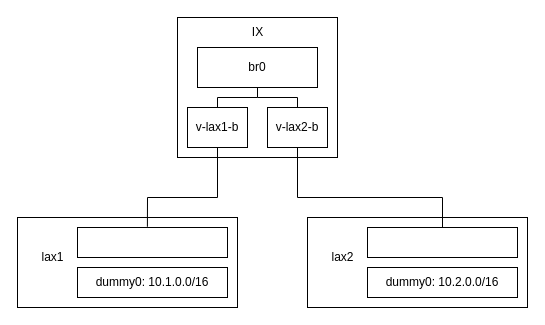
Image size: 545x325. Some labels were removed from this diagram. The centre of each missing label's shape, as x and y in pixels:
"v-lax1-a:192.168.31.1/30" goes at [152,242].
"v-lax2-a:192.168.31.2/30" goes at [442,242].
